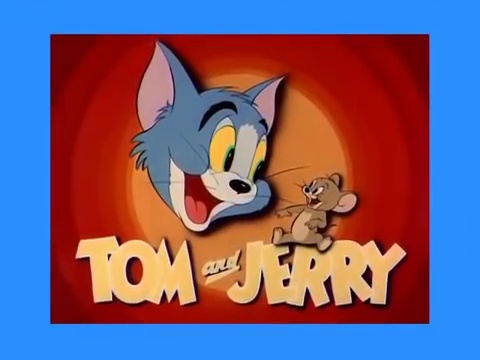tom: (125, 38, 289, 234)
